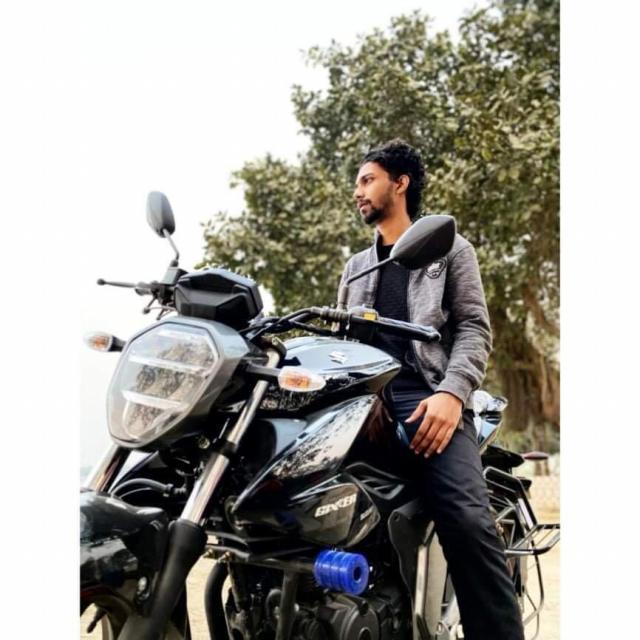No helmet: (349, 136, 428, 237)
